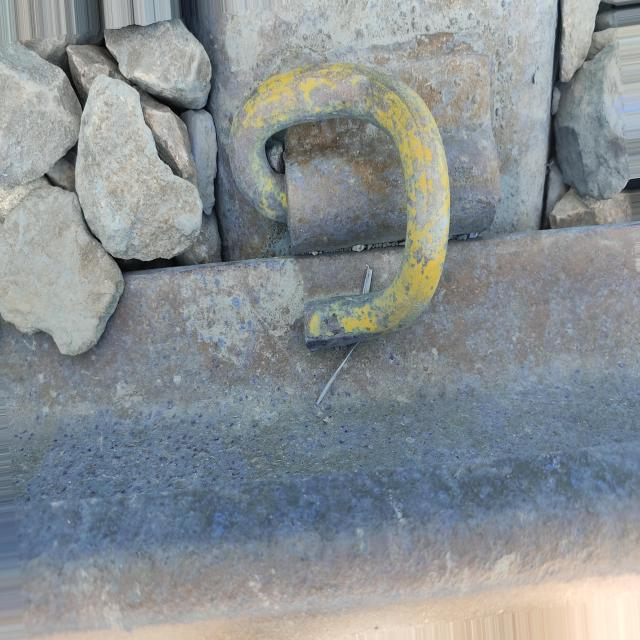Good Fasteners: (228, 43, 499, 350)
